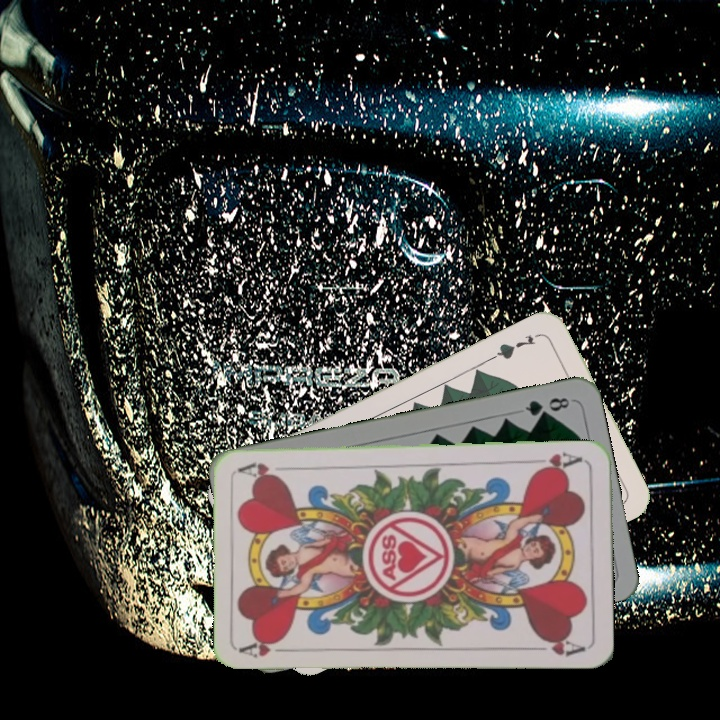G7: (489, 331, 538, 362)
G8: (521, 393, 572, 419)
HA: (238, 634, 297, 660), (528, 448, 585, 474)
